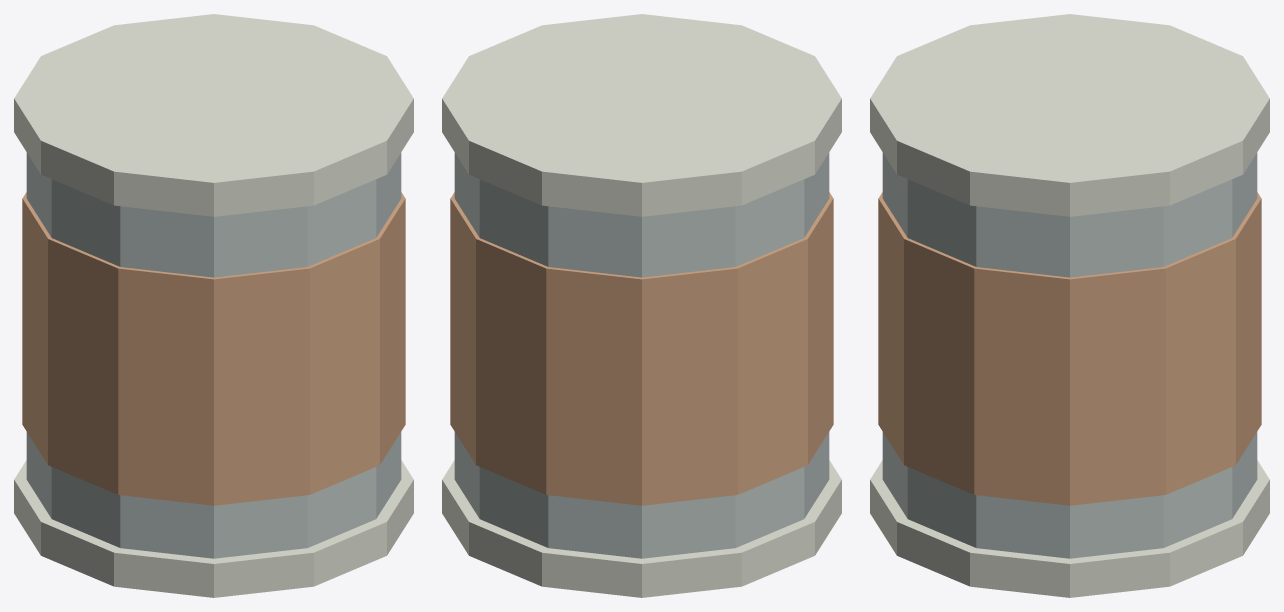
The model's file is distraction_can.fbx.
The picture shows the model from 3 angles, left to right: view 1: azimuth 30°, elevation 25°; view 2: azimuth 150°, elevation 25°; view 3: azimuth 270°, elevation 25°; orthographic projection.
Visible parts, largest first — view 1: Can body; view 2: Can body; view 3: Can body.
Part boxes in pixels (box(x1,y1,x2,y2)): Can body: box(14, 14, 413, 597); Can body: box(442, 14, 841, 597); Can body: box(870, 14, 1269, 597).
Bounding box in the file's own units: 0.192 × 0.22 × 0.192.
